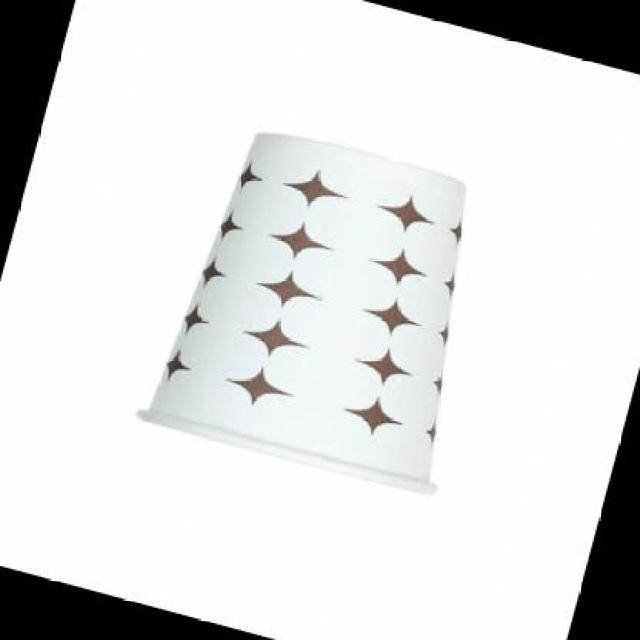non-biodegradable: (108, 97, 520, 523)
